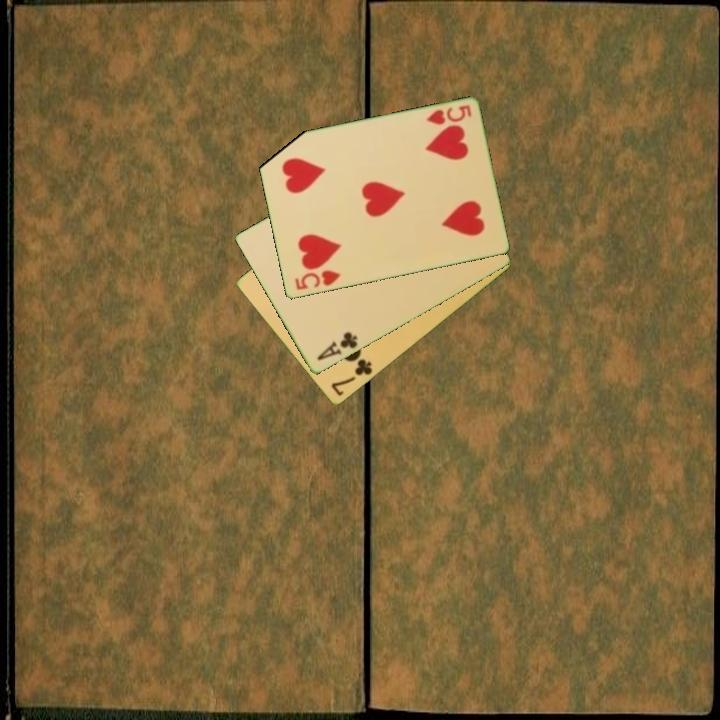5h: (291, 267, 343, 293), (423, 102, 474, 128)
7c: (327, 355, 375, 399)
Ac: (313, 328, 361, 364)
